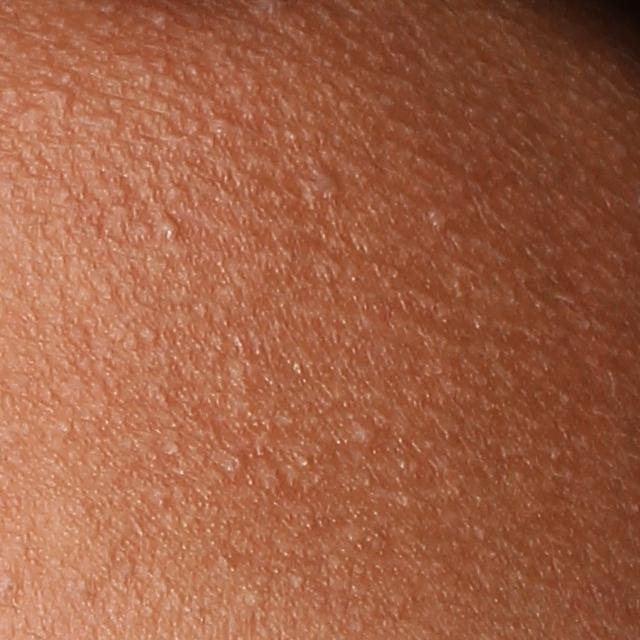comedo: (422, 199, 455, 237), (45, 85, 80, 117), (317, 164, 344, 200), (156, 211, 180, 246), (209, 111, 237, 137), (352, 418, 377, 446), (150, 7, 175, 31), (284, 570, 308, 592), (1, 578, 20, 597)
